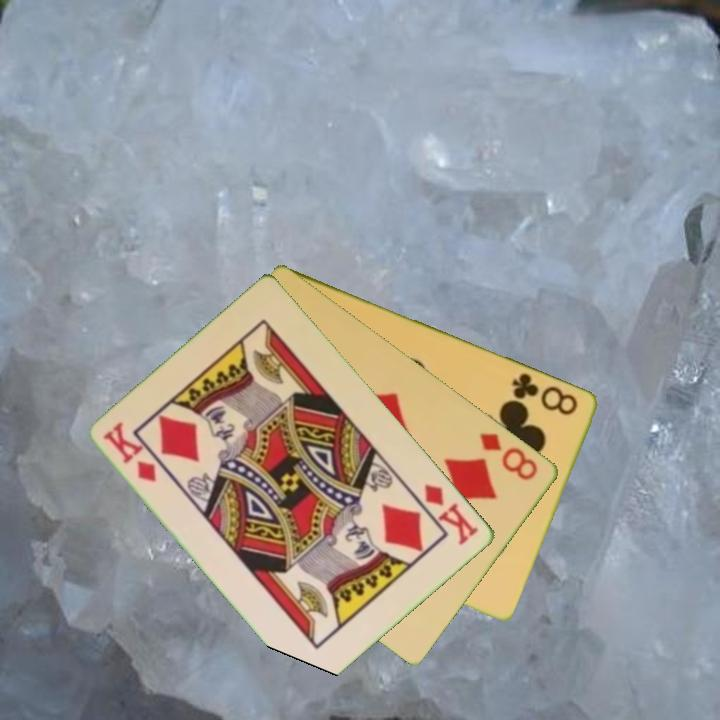8c: (508, 369, 582, 418)
8d: (477, 429, 541, 484)
Kd: (421, 480, 482, 548), (100, 419, 160, 485)
